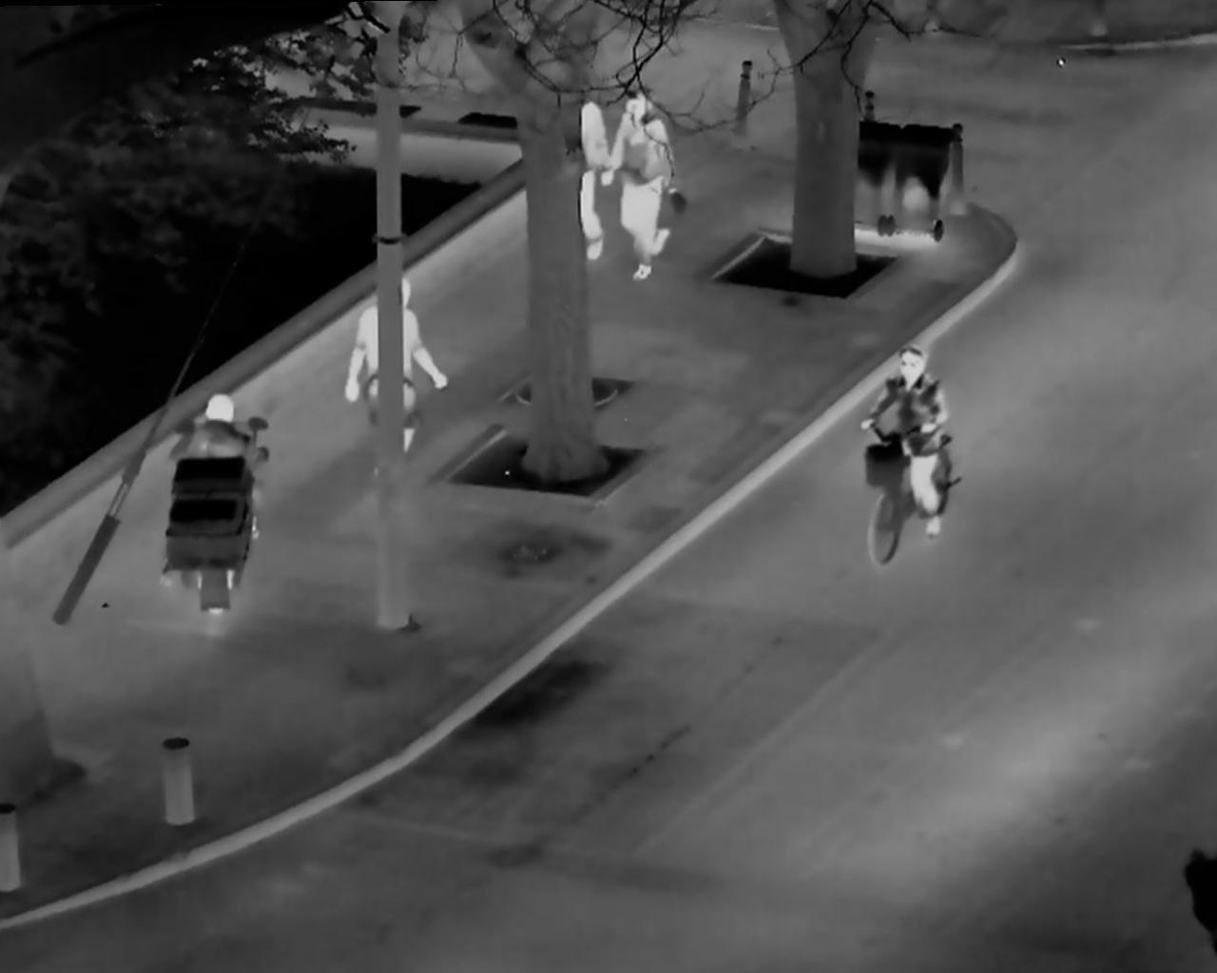person: (849, 321, 959, 567), (349, 258, 447, 461), (604, 82, 686, 289), (168, 382, 261, 553), (567, 89, 617, 264)
